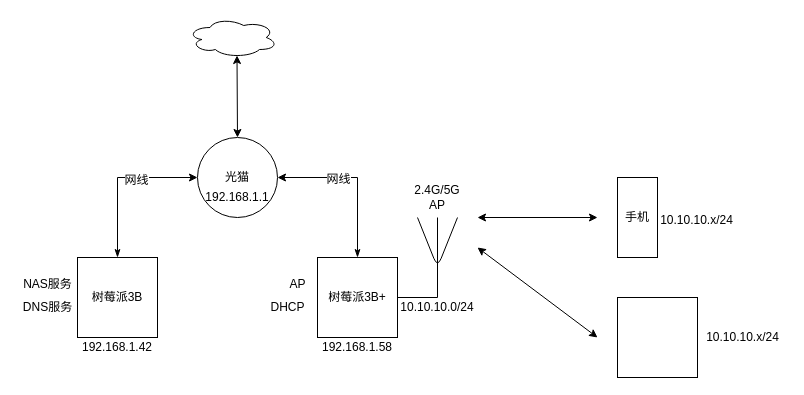
Some shapes in this 804 by 395 pixel diagram are drawn without their labels. Here are the shapes that lost their labels. From the top down, the box of each, then its label:
(186, 16, 278, 58): Internet
(616, 296, 698, 378): 笔记本
